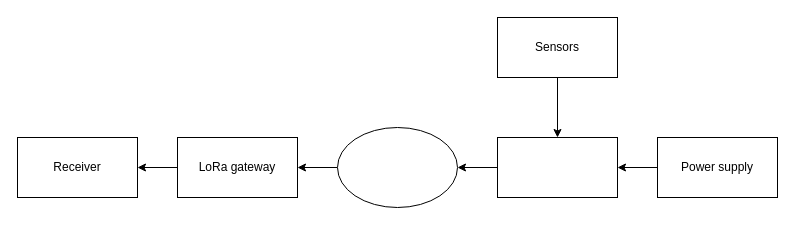
This 795x225 diagram has some shape labels left out. Each missing label, with the centre of its shape:
"LoRa module" belongs at point 397,167.
"µcontroller" belongs at point 557,167.
